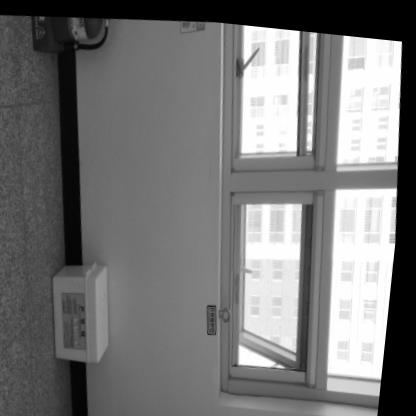DDL: (51, 254, 124, 364)
